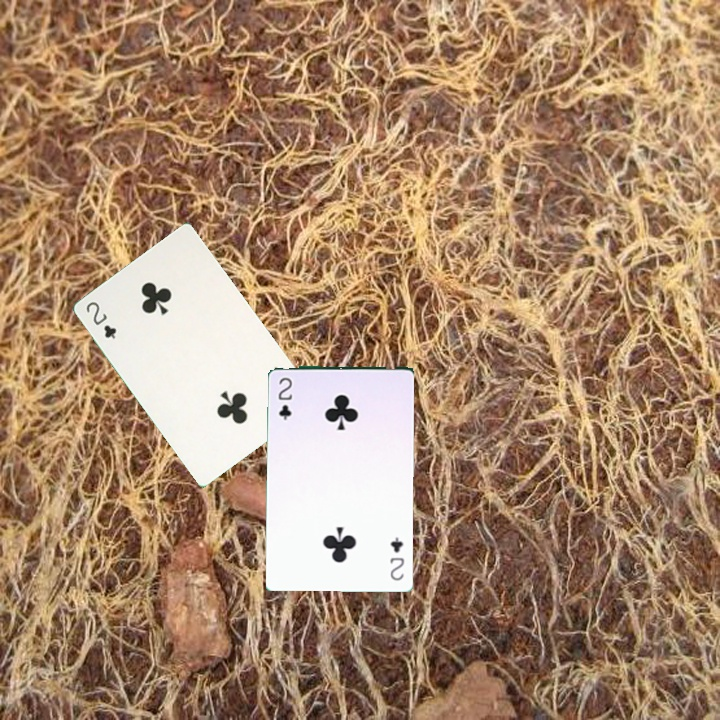2c: (82, 297, 119, 341), (386, 533, 407, 583), (275, 373, 294, 422)
